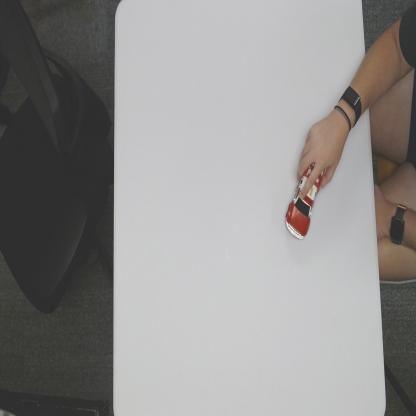Firetruck: (283, 164, 325, 242)
Hand: (296, 109, 344, 200)
